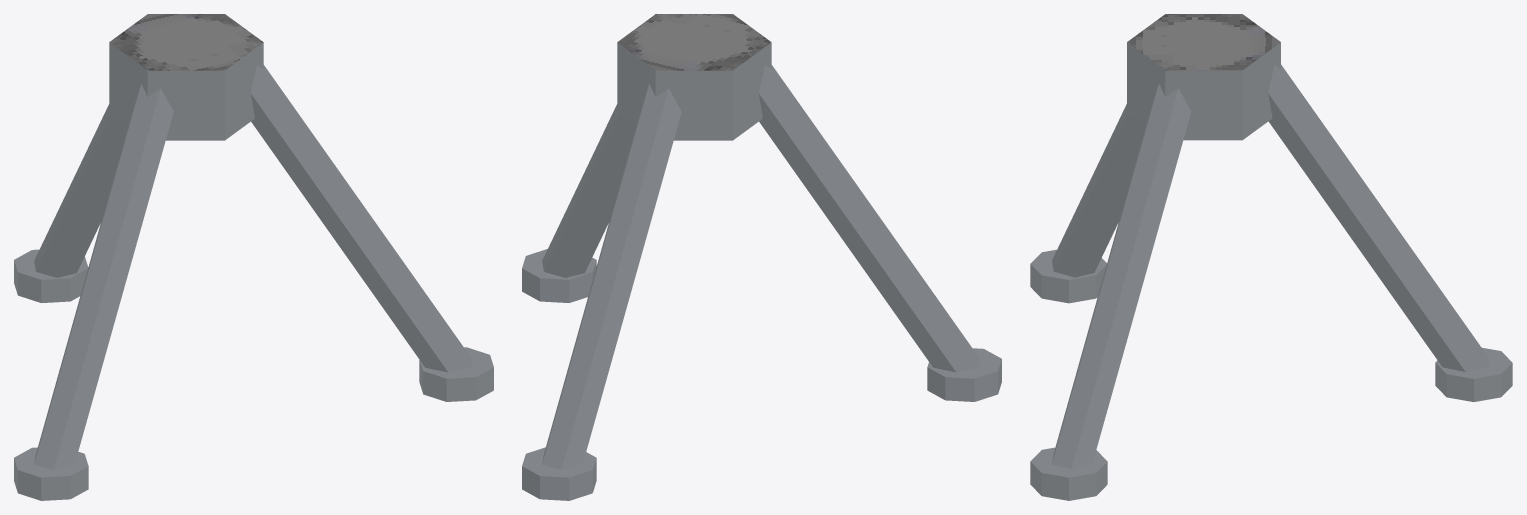
File: Building_Turret_MiniTurret.glb
3 renders of one model, left to right at view 1: azimuth 30°, elevation 25°; view 2: azimuth 150°, elevation 25°; view 3: azimuth 270°, elevation 25°, orthographic.
Visible parts, largest first — view 1: Turret_MiniTurret; view 2: Turret_MiniTurret; view 3: Turret_MiniTurret.
Part boxes in pixels (left/top/right/bottom): Turret_MiniTurret: left=14, top=14, right=493, bottom=500; Turret_MiniTurret: left=522, top=14, right=1001, bottom=500; Turret_MiniTurret: left=1030, top=14, right=1512, bottom=500.
Size of the model in its own units: 0.8475 by 0.59 by 0.75.
Materials: 1 (1 with a texture image).
